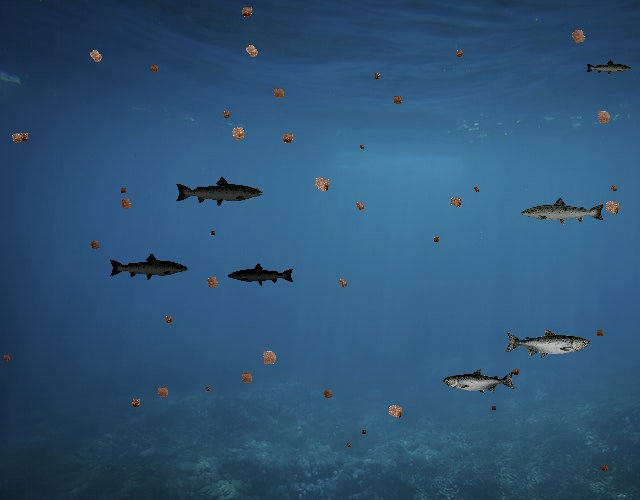Fish: (174, 175, 264, 208), (520, 196, 606, 227), (504, 328, 590, 359), (108, 253, 189, 282), (444, 368, 517, 394), (227, 263, 295, 287), (585, 60, 632, 77)
Pellet: (5, 127, 28, 149), (235, 1, 258, 23), (350, 197, 369, 216), (388, 91, 406, 109), (430, 233, 443, 246), (117, 184, 129, 196), (202, 384, 212, 394)
